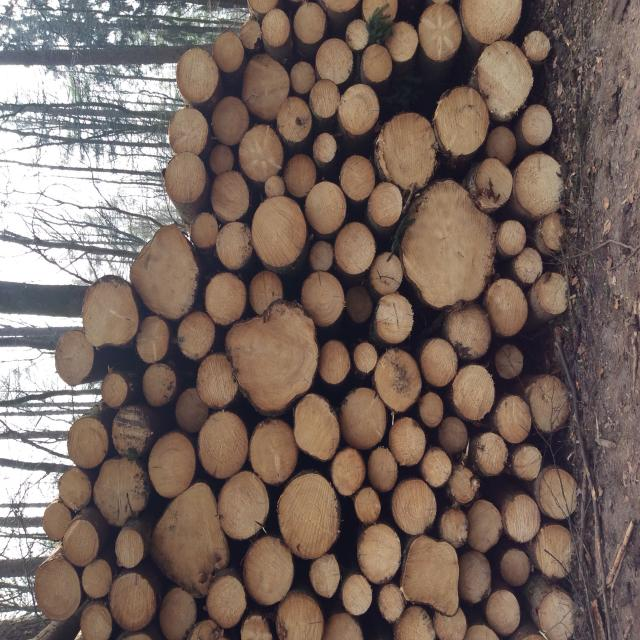wood-log: (399, 178, 495, 308), (230, 301, 319, 411), (153, 482, 230, 596), (131, 225, 198, 318), (280, 472, 342, 559), (374, 114, 435, 192), (475, 39, 531, 119), (401, 537, 458, 614), (253, 197, 310, 270), (432, 86, 488, 158), (81, 281, 138, 348), (91, 458, 147, 526), (198, 409, 250, 478), (216, 471, 268, 540), (244, 538, 295, 606), (511, 156, 564, 221), (240, 53, 289, 120), (145, 433, 195, 498), (251, 418, 301, 483), (375, 348, 423, 413), (292, 393, 338, 460), (30, 556, 78, 620), (339, 387, 388, 449), (526, 376, 574, 436), (110, 572, 157, 631), (240, 123, 286, 183), (461, 0, 523, 44), (392, 477, 438, 534), (418, 3, 462, 62), (358, 525, 402, 584), (482, 277, 526, 336), (446, 307, 494, 361), (450, 364, 494, 421), (177, 46, 220, 104), (54, 327, 96, 385), (299, 272, 344, 326), (303, 181, 347, 235), (536, 466, 580, 520), (205, 573, 248, 628), (198, 355, 240, 410), (334, 221, 378, 273), (205, 270, 247, 324), (471, 157, 514, 209), (338, 83, 380, 136), (166, 154, 208, 207), (67, 414, 108, 468), (276, 592, 322, 640), (531, 522, 571, 576), (536, 588, 576, 639), (372, 295, 411, 347), (160, 586, 198, 638), (114, 406, 152, 458), (213, 170, 251, 221), (167, 108, 208, 155), (467, 498, 504, 550), (492, 396, 532, 444), (419, 338, 458, 387), (211, 96, 250, 144), (504, 494, 542, 543), (177, 310, 215, 359), (461, 549, 494, 604), (391, 416, 428, 465), (276, 94, 312, 144), (218, 222, 255, 270), (63, 517, 100, 565), (317, 40, 355, 86), (368, 183, 405, 230), (532, 272, 571, 316), (340, 156, 377, 202), (331, 451, 367, 498), (485, 589, 521, 635), (136, 317, 170, 365), (175, 386, 210, 432), (472, 432, 508, 476), (370, 253, 406, 297), (518, 106, 555, 148), (248, 270, 282, 314), (142, 364, 176, 407), (284, 155, 318, 198), (382, 21, 418, 61), (368, 446, 400, 491), (396, 606, 438, 640), (294, 2, 328, 44), (59, 468, 93, 510), (321, 340, 352, 386), (213, 29, 245, 72), (341, 574, 373, 617), (309, 553, 340, 597), (309, 80, 342, 121), (83, 557, 115, 598), (422, 447, 454, 488), (448, 466, 481, 505), (360, 45, 392, 85), (42, 501, 72, 543), (80, 603, 114, 640), (115, 526, 144, 568), (538, 212, 567, 254), (344, 287, 376, 325), (440, 508, 470, 548), (512, 444, 544, 481), (439, 417, 470, 455), (486, 126, 517, 164), (324, 612, 366, 640), (262, 8, 290, 49), (378, 581, 406, 622), (513, 248, 544, 285), (501, 548, 531, 586), (192, 211, 222, 247), (497, 220, 526, 257), (352, 486, 380, 524), (493, 342, 522, 378), (100, 372, 128, 409), (435, 608, 467, 640), (523, 30, 552, 62), (288, 61, 316, 94), (419, 392, 444, 428), (310, 238, 336, 272), (240, 616, 276, 640), (362, 0, 396, 25), (352, 342, 378, 374), (346, 19, 370, 51), (313, 133, 337, 165), (208, 146, 234, 175), (190, 619, 224, 640), (240, 17, 260, 50), (320, 0, 360, 15), (464, 624, 498, 640), (266, 174, 286, 197), (248, 0, 278, 14), (119, 631, 154, 640), (512, 632, 548, 640)
